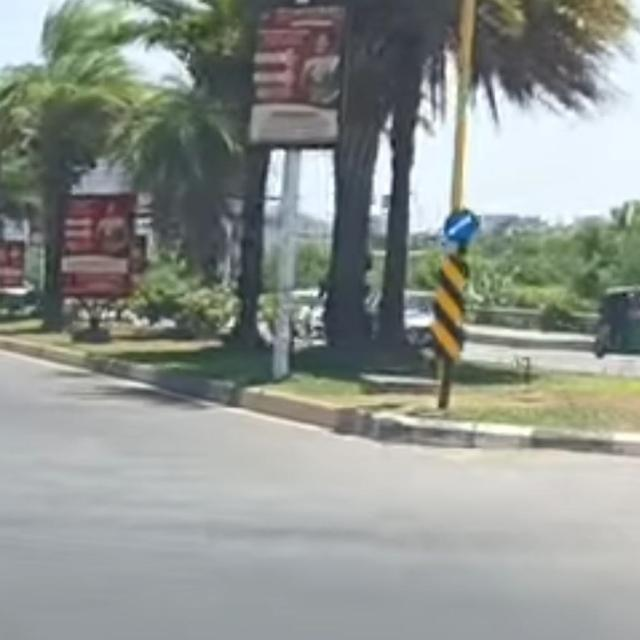compulsory_keep_left: (434, 205, 488, 248)
object_hazzard_to_left: (425, 254, 475, 374)
